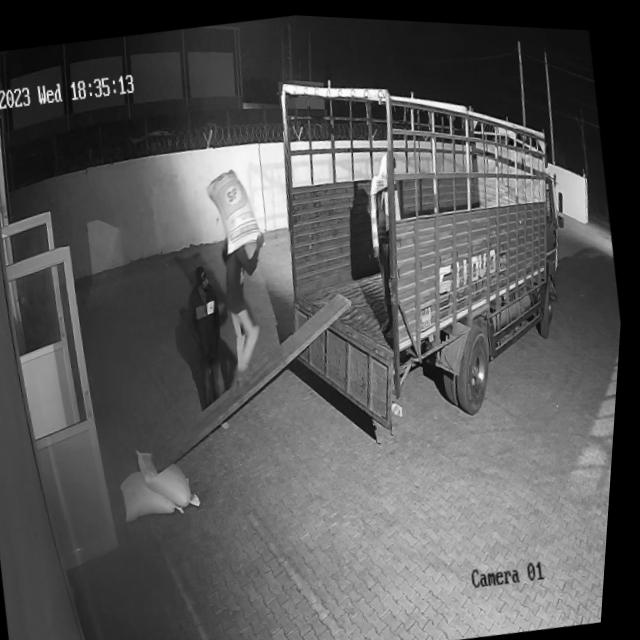sack: (202, 161, 269, 255), (137, 437, 211, 514), (122, 461, 193, 523)
